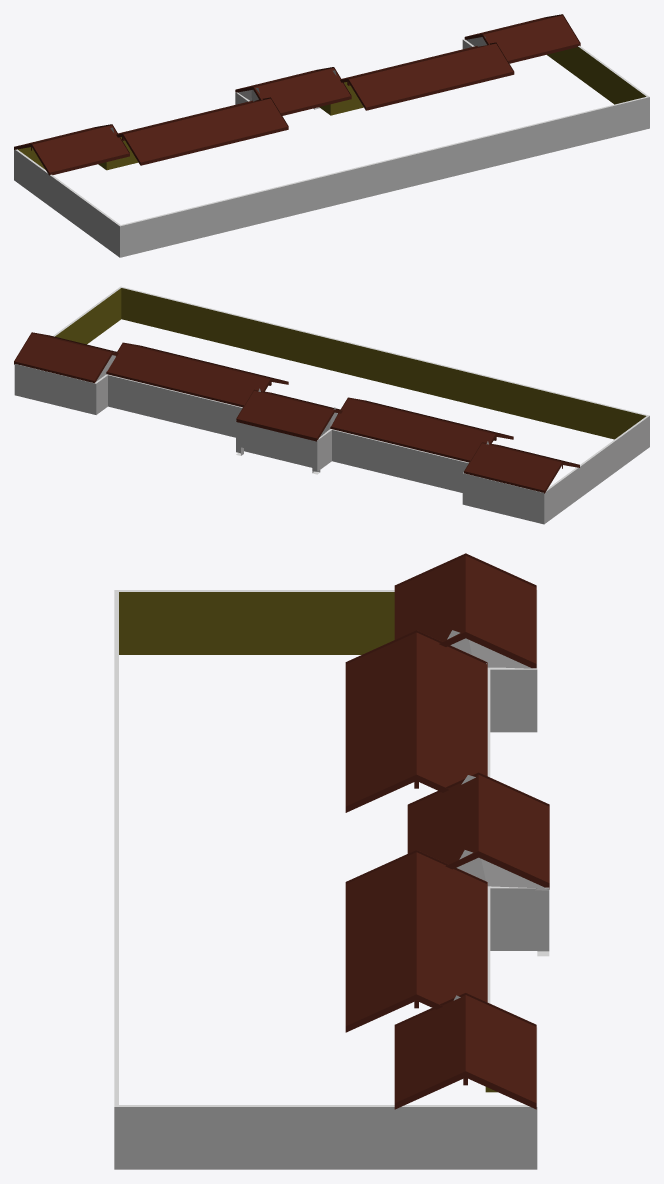
The model's file is roofixxxersfbx.fbx.
3 views of the same model, one above another, from view 1: azimuth 30°, elevation 25°; view 2: azimuth 150°, elevation 25°; view 3: azimuth 270°, elevation 25° (orthographic). The views are drawn at different scales.
Visible parts, largest first — view 1: _2, roofCheck; view 2: _2, roofCheck; view 3: roofCheck, _2.
Boxes of the visible parts, x1,y1,x2,y2 form: _2: [14, 39, 649, 257]; roofCheck: [14, 14, 580, 175]; _2: [14, 286, 649, 524]; roofCheck: [14, 332, 579, 493]; roofCheck: [345, 553, 549, 1109]; _2: [114, 590, 549, 1169].
Size of the model in its own units: 5216 by 491 by 1853.
